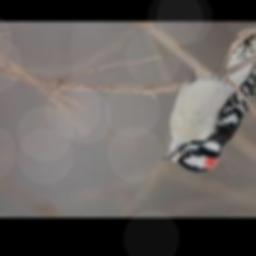Woodpecker: (161, 33, 256, 172)
